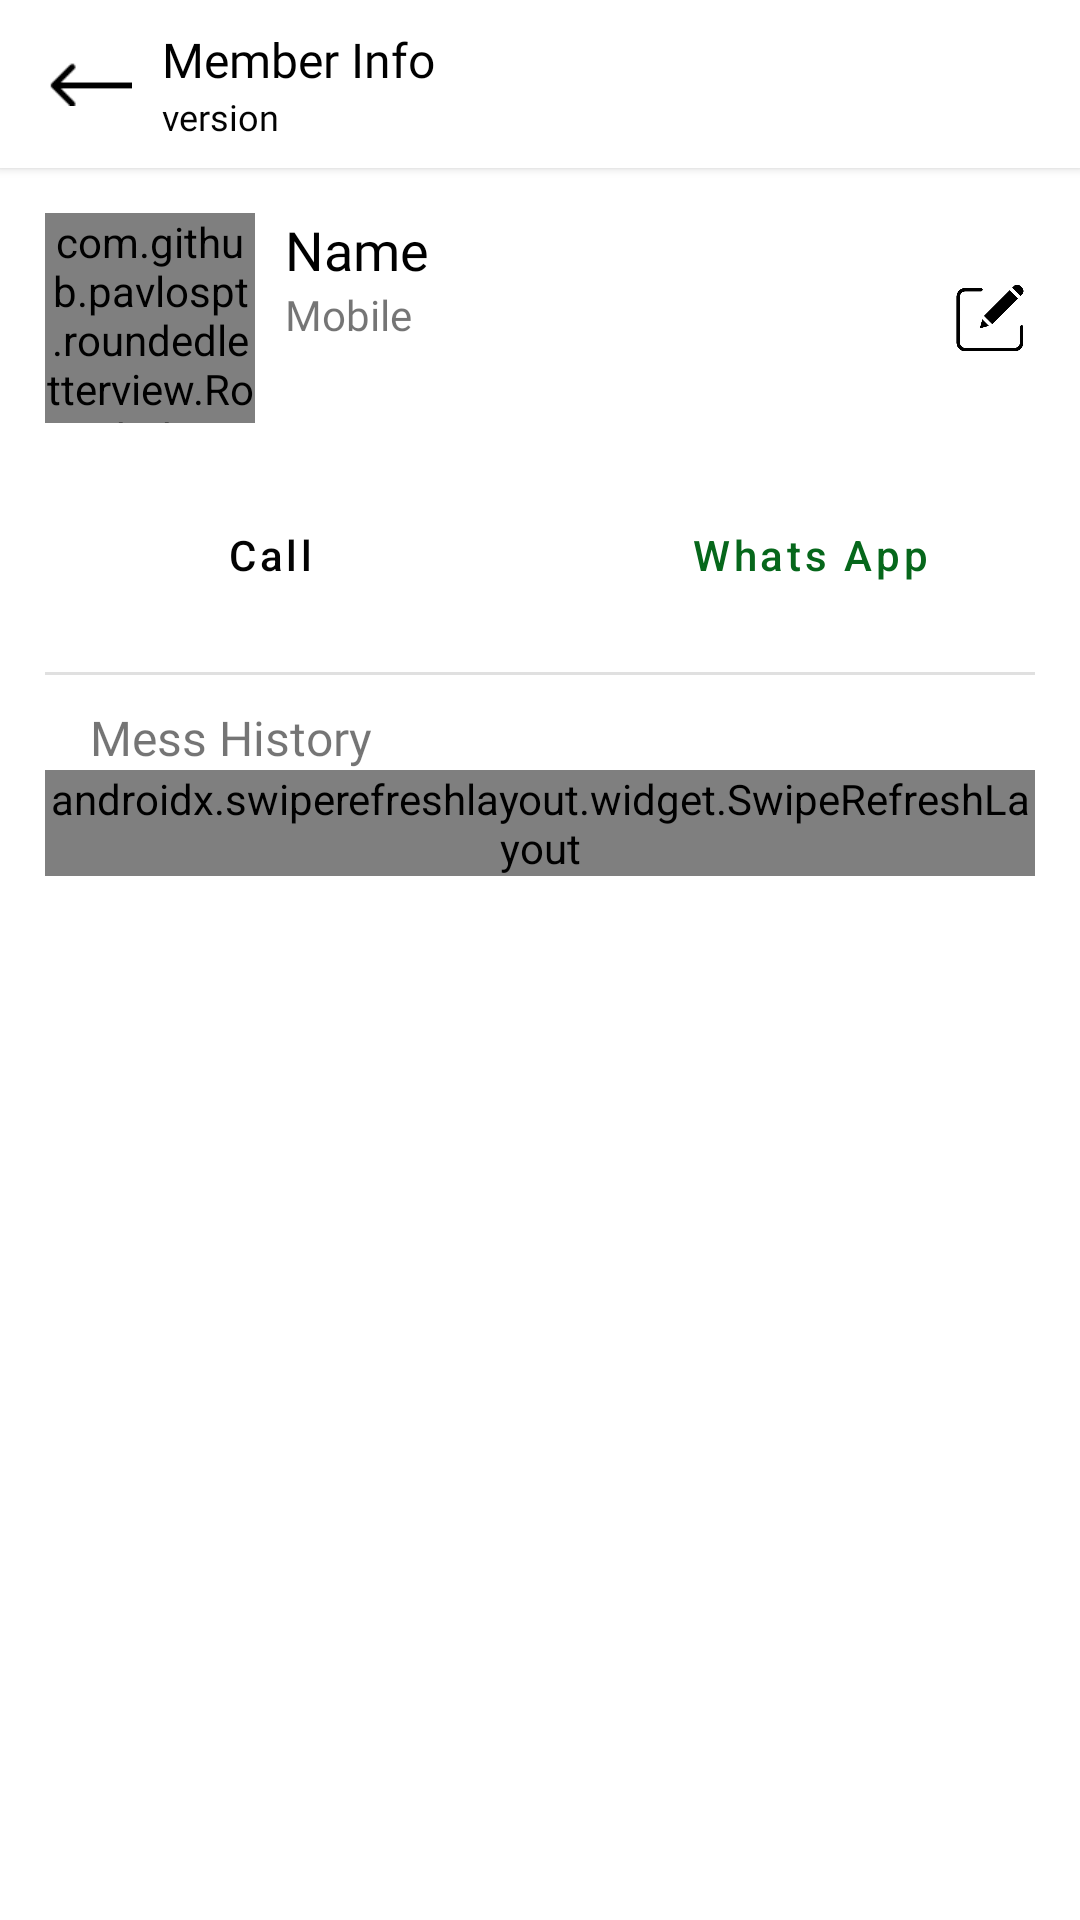

Named icons in this screenshot (1080w x 1920h) and their bounding boxes, box=[x1, y1, x2, y2]:
back arrow: box=[50, 63, 132, 106]
edit: box=[956, 285, 1024, 351]
